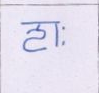aa_matra: (55, 23, 59, 46)
